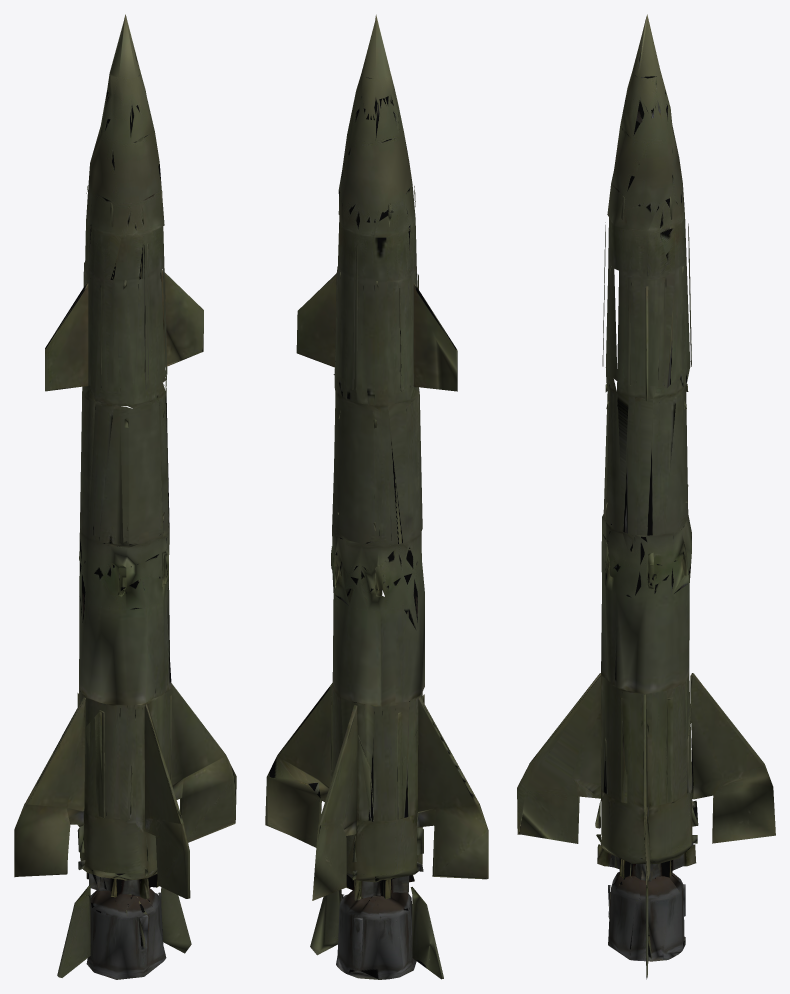
The model's file is tactical.glb.
The picture shows the model from 3 angles, left to right: view 1: azimuth 30°, elevation 25°; view 2: azimuth 150°, elevation 25°; view 3: azimuth 270°, elevation 25°; orthographic projection.
Visible parts, largest first — view 1: tactical; view 2: tactical; view 3: tactical.
Part boxes in pixels (bbox=[...]): tactical: bbox=[14, 14, 236, 979]; tactical: bbox=[265, 14, 488, 979]; tactical: bbox=[517, 14, 775, 979].
Bounding box in the file's own units: 0.2314 × 0.9502 × 0.2378.
Materials: 1 (1 with a texture image).
